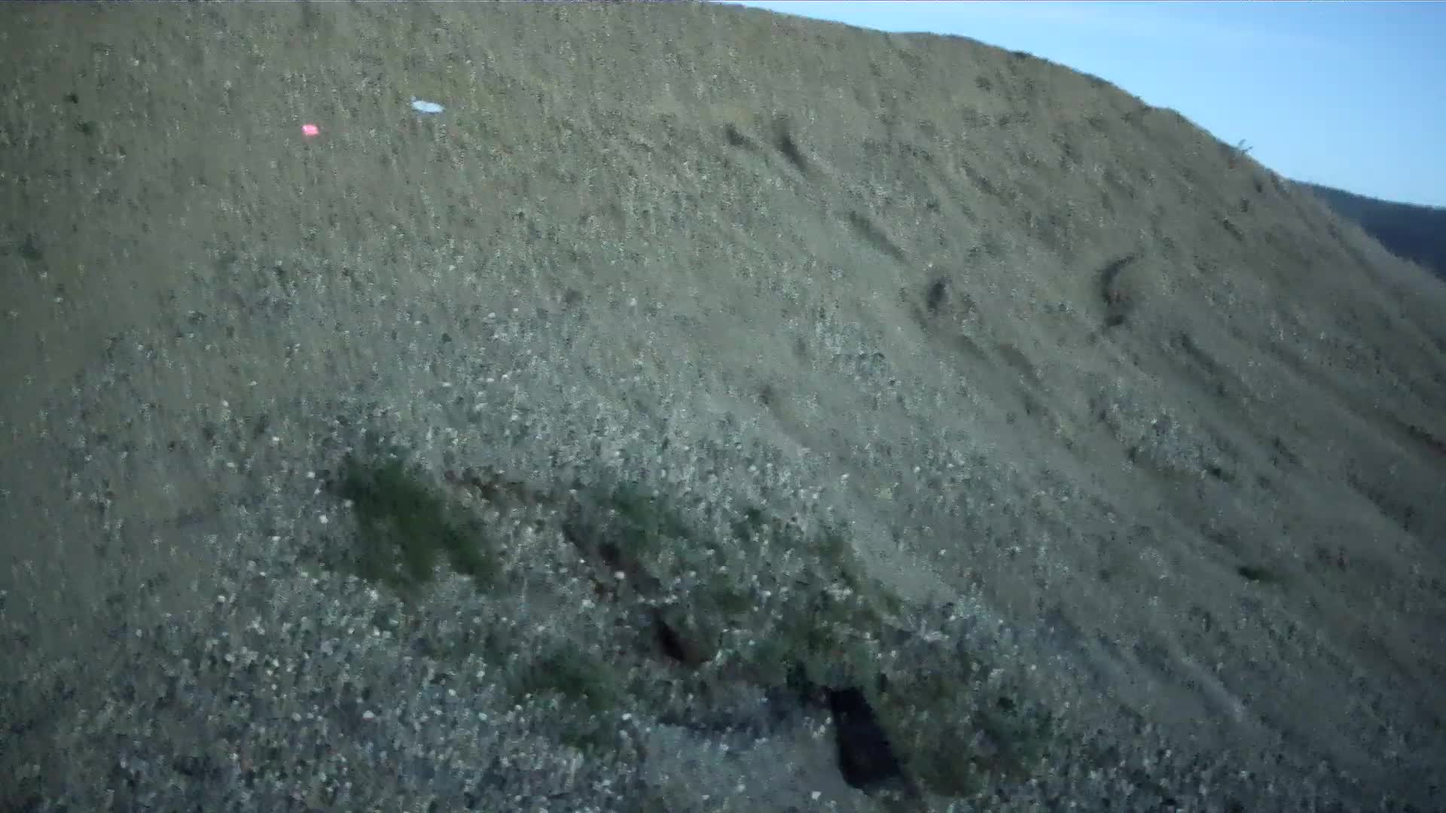Target: (412, 100, 444, 113)
